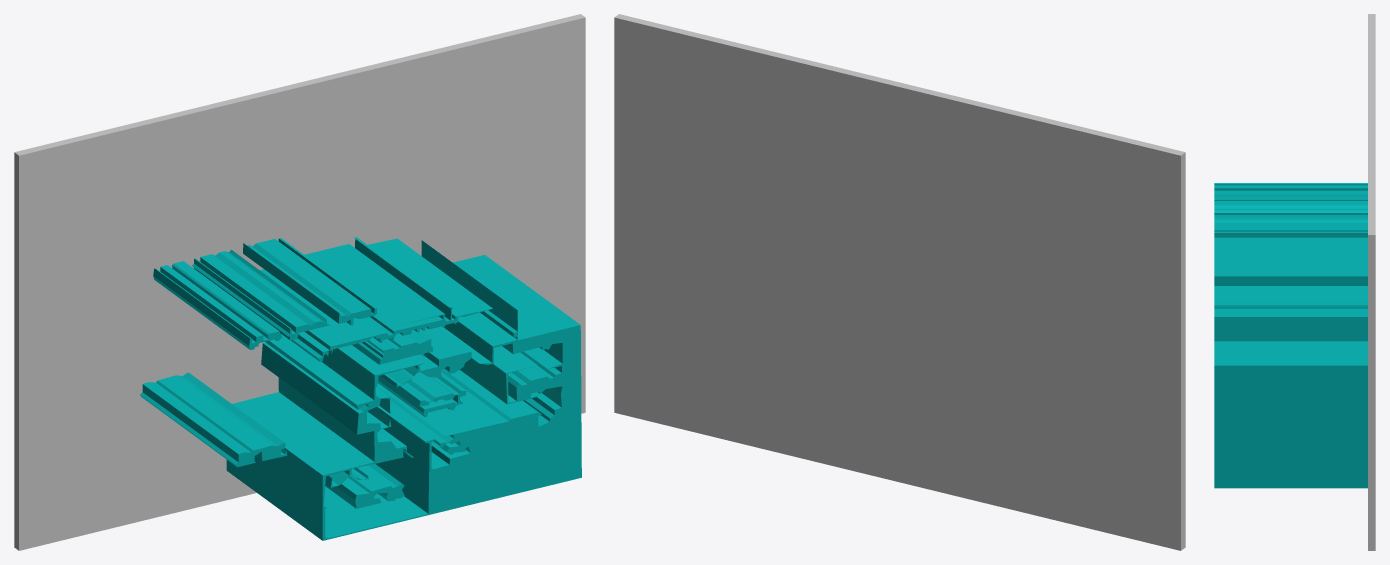
3 renders of one model, left to right at view 1: azimuth 30°, elevation 25°; view 2: azimuth 150°, elevation 25°; view 3: azimuth 270°, elevation 25°, orthographic. The views are drawn at different scales.
Parts seen in each view (by area): view 1: world; view 2: world; view 3: world.
Boxes of the visible parts, box(x1,y1,x2,y2) form: world: box(14, 14, 585, 550); world: box(614, 14, 1185, 550); world: box(1214, 14, 1375, 550).
Bounding box in the file's own units: 10.23 × 6.82 × 3.15.
